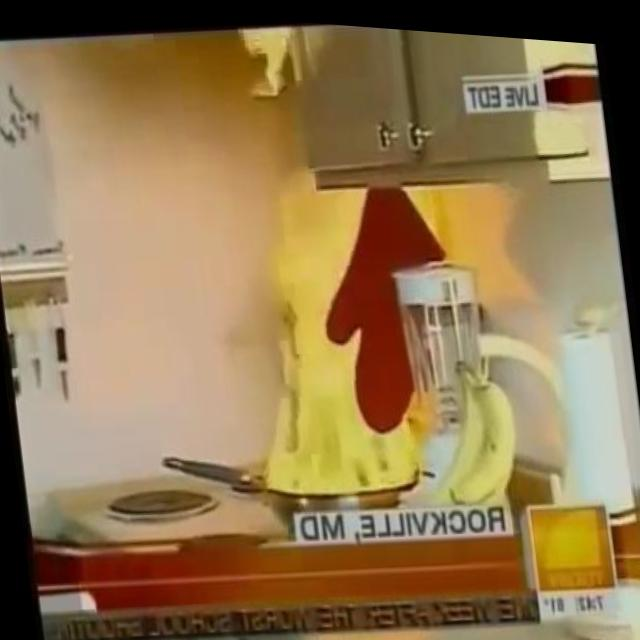fire: (221, 170, 423, 505)
